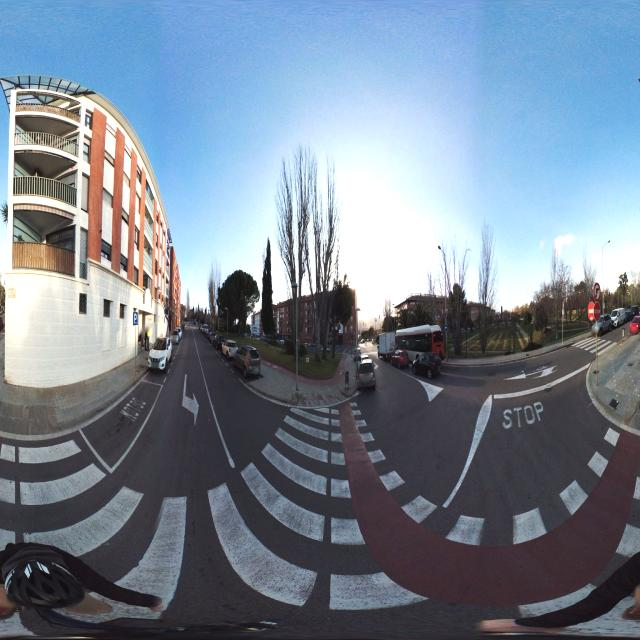car: (150, 336, 168, 373), (356, 360, 376, 392), (242, 346, 260, 378), (590, 315, 610, 336), (392, 348, 411, 368), (594, 314, 612, 334), (234, 345, 248, 370), (222, 337, 237, 360), (215, 331, 225, 351), (629, 316, 640, 334), (385, 348, 395, 363), (353, 348, 362, 362), (202, 322, 208, 334)
